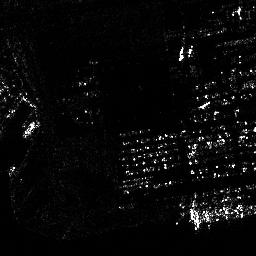ship: (21, 119, 39, 139)
